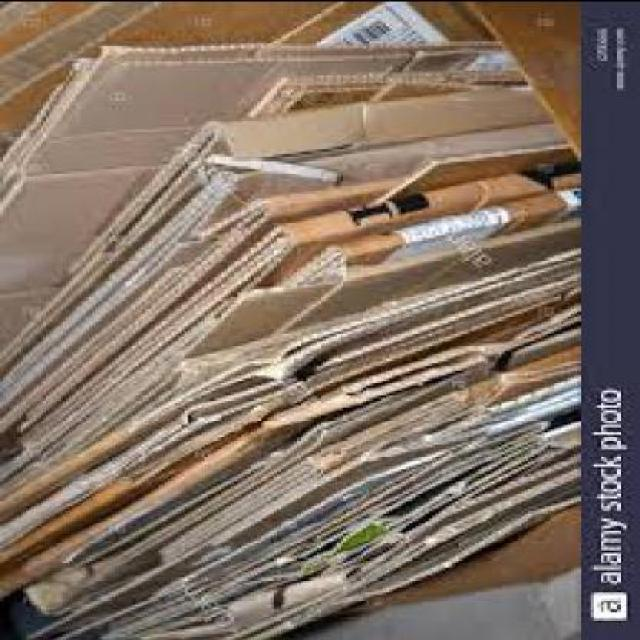CARDBOARD: (0, 162, 574, 482), (0, 295, 574, 600), (0, 143, 571, 439), (1, 123, 561, 414), (0, 222, 574, 500), (0, 86, 551, 372), (1, 42, 514, 349), (0, 276, 574, 527), (0, 330, 574, 572), (20, 408, 574, 618), (23, 436, 579, 638), (0, 1, 331, 154), (274, 189, 574, 291), (326, 509, 574, 618), (458, 2, 577, 162), (0, 2, 149, 100), (240, 72, 534, 120), (270, 2, 495, 47), (0, 2, 86, 56), (0, 2, 46, 35)
